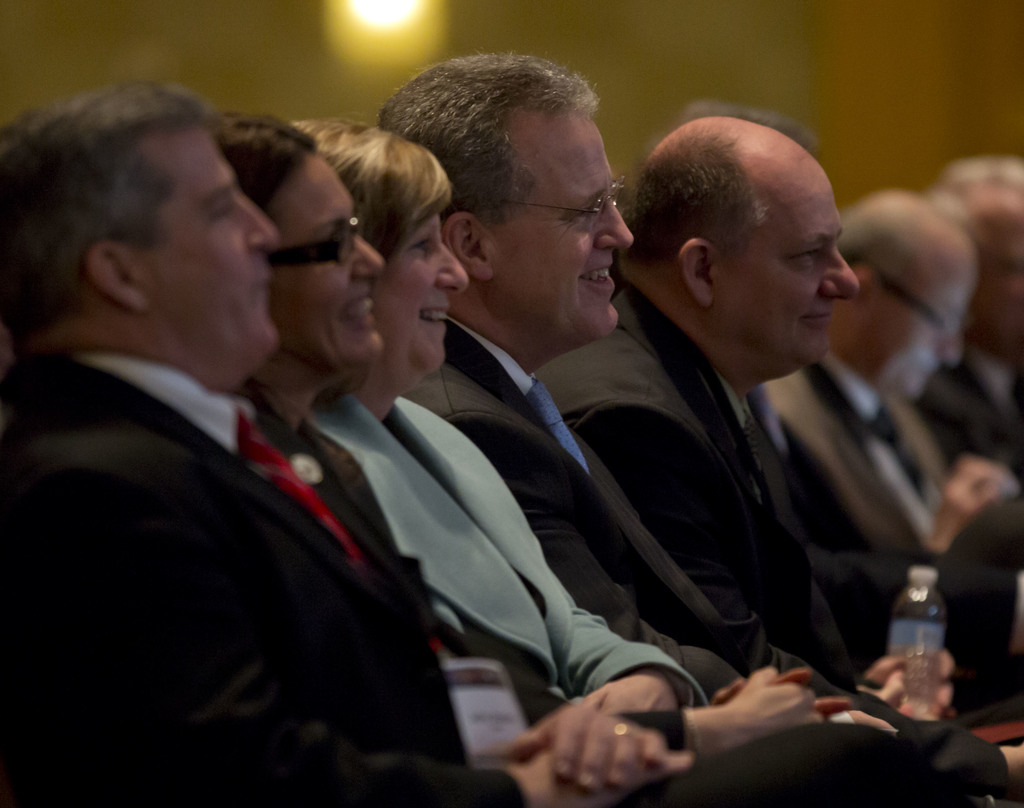Human-face: (147, 131, 275, 387), (500, 112, 631, 340), (716, 173, 863, 362), (272, 148, 382, 369), (867, 243, 972, 396), (382, 215, 467, 377), (975, 190, 1023, 358)
